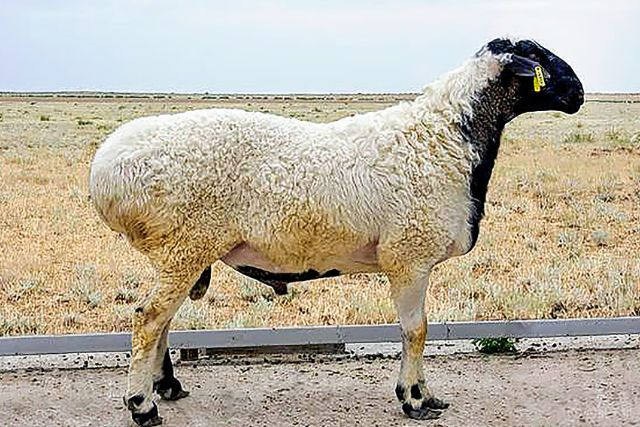sheep: (97, 36, 580, 389)
